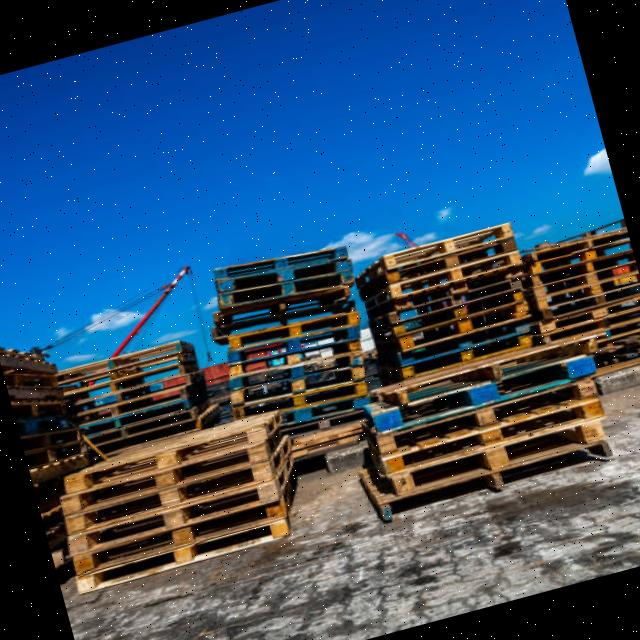Wooden-Pallets: (65, 489, 296, 576), (362, 374, 594, 459), (52, 412, 276, 500), (382, 414, 616, 498), (66, 518, 296, 598), (61, 458, 277, 537), (378, 219, 516, 272), (395, 300, 528, 354)
